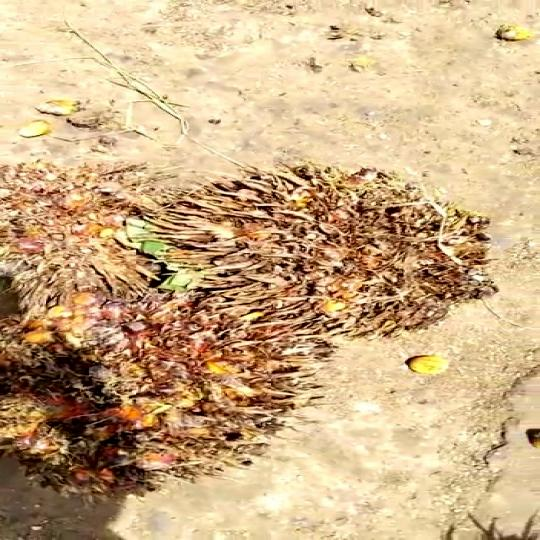terlalu masak: (0, 301, 321, 490), (145, 170, 501, 322)
